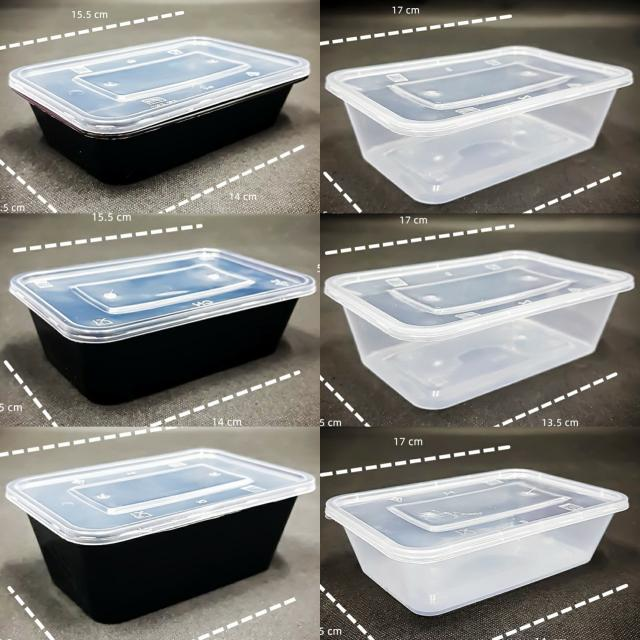Single-Use-Plastic: (6, 448, 315, 622), (324, 250, 634, 409), (325, 46, 633, 204), (9, 248, 316, 404), (9, 36, 310, 184), (325, 469, 628, 615)
